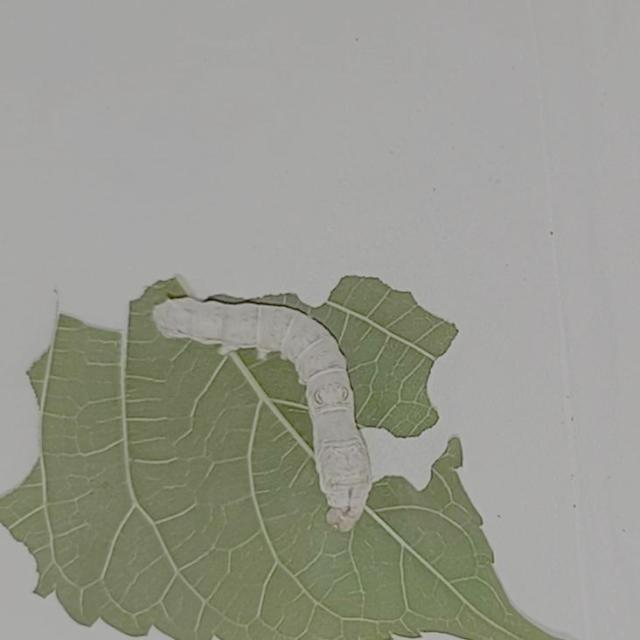Healthy: (144, 286, 386, 537)
